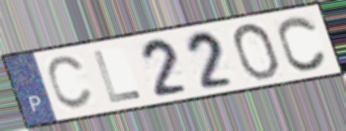2: (185, 26, 242, 95), (140, 35, 194, 102)
C: (276, 14, 330, 73), (45, 53, 95, 112)
L: (91, 48, 145, 105)
O: (230, 21, 282, 82)
